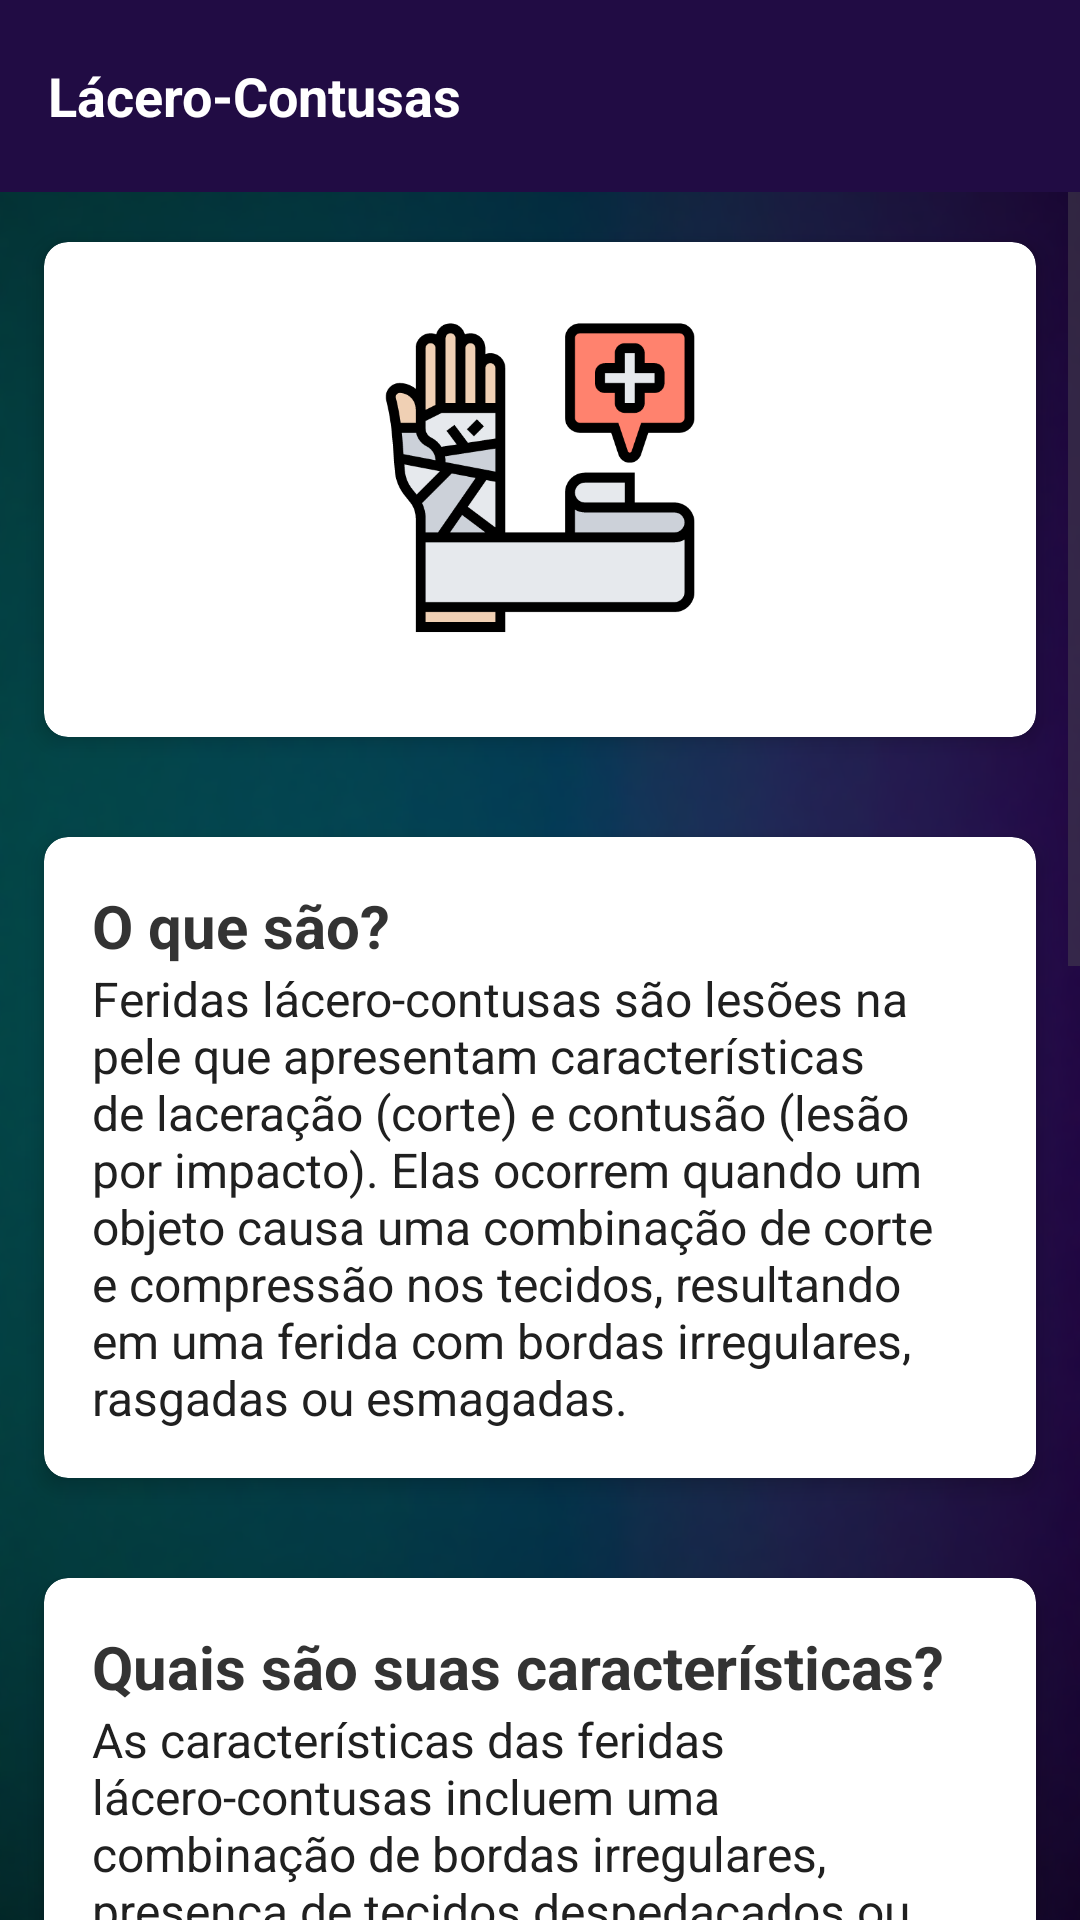

Where icons sit on this 1080px×1920px app screen, as (x1=x1, y1=y1, x2=x2, y2=y2):
cerocontusas: (x1=385, y1=323, x2=695, y2=632)
